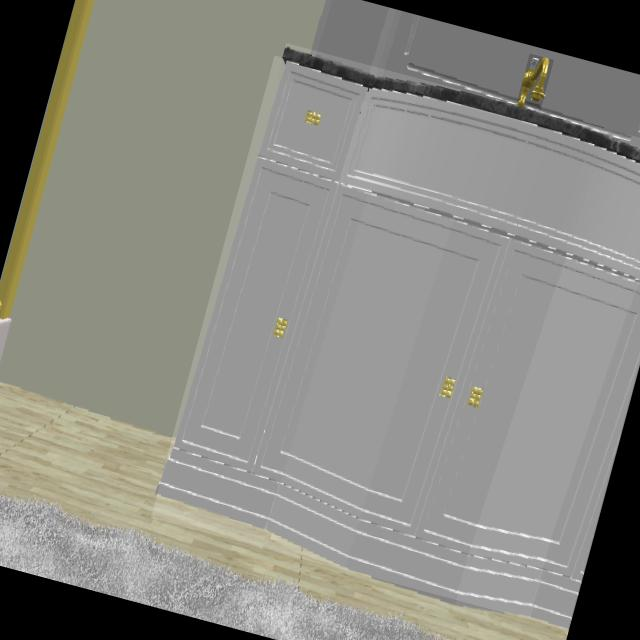cabinet: (158, 64, 640, 626)
countertop: (284, 49, 640, 164)
washbasin: (518, 58, 549, 107)
